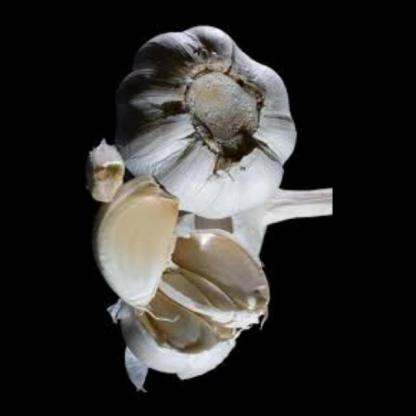garlic: (109, 26, 299, 216), (129, 232, 269, 378), (175, 173, 333, 262), (87, 172, 185, 310), (85, 138, 126, 205)
